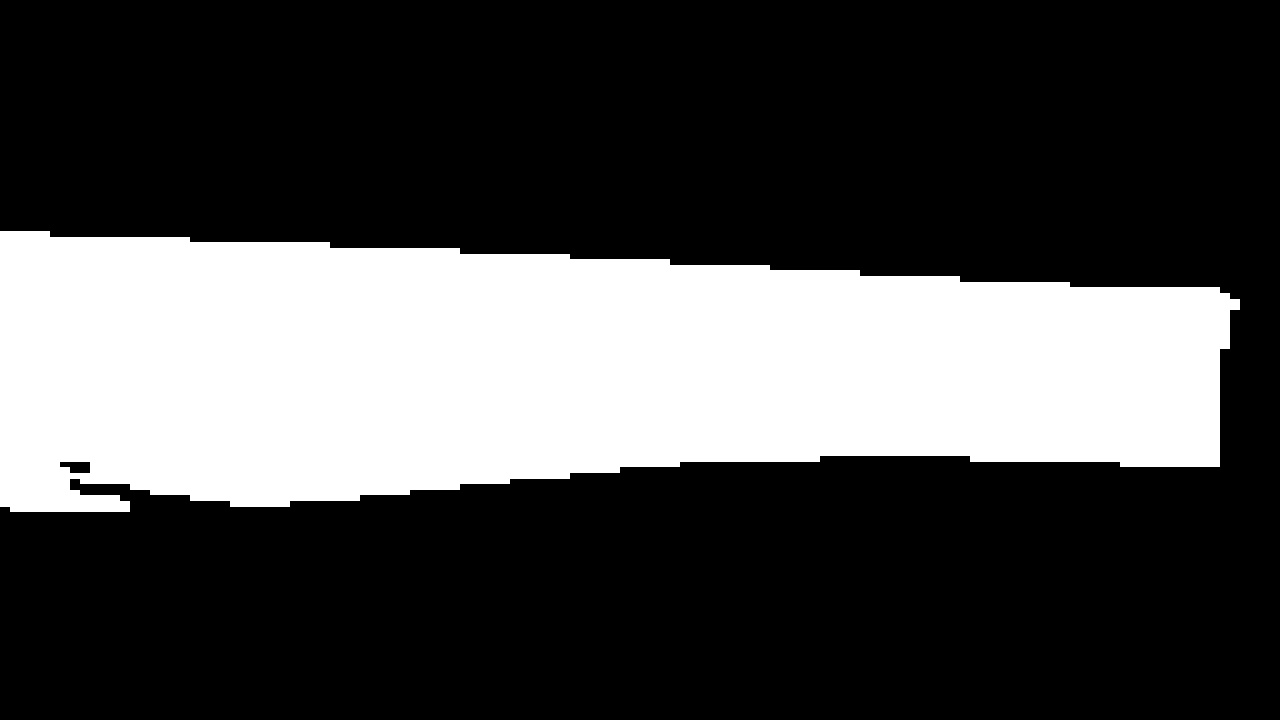Turbine: (17, 216, 1255, 514)
